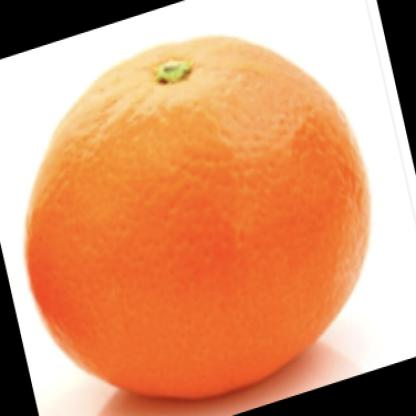orange: (26, 32, 370, 405)
